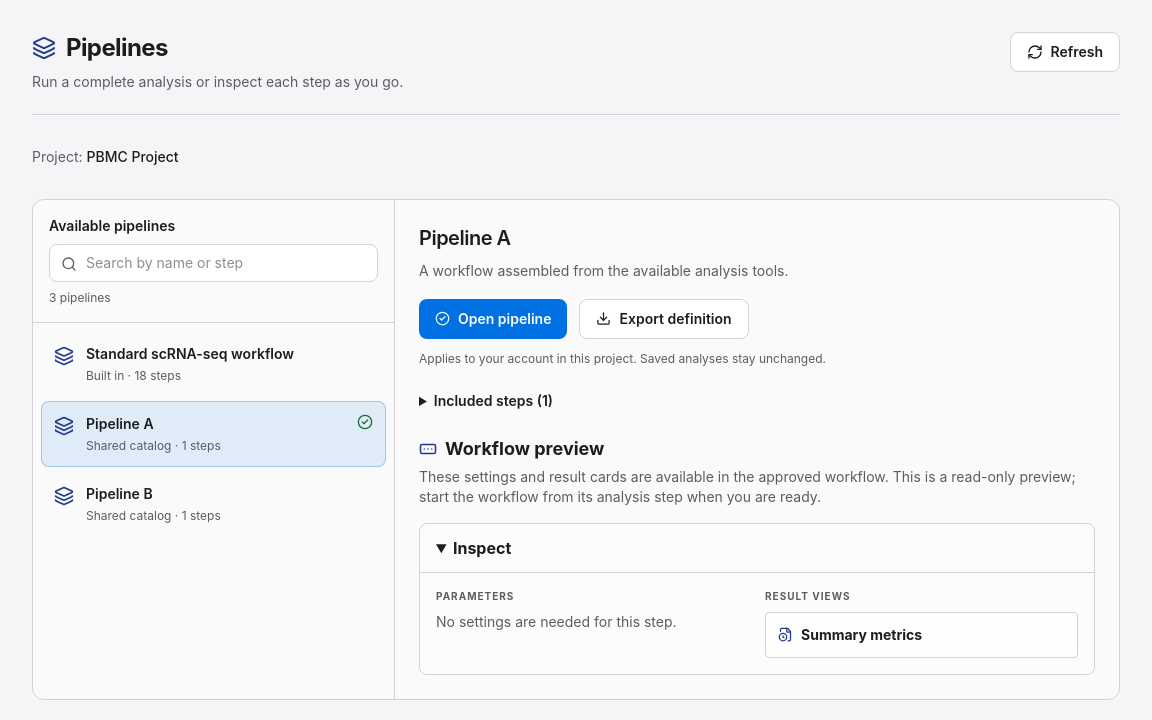
it: PipelineManager › serializes refresh and selection so a refresh cannot capture and restore an older selection
Check: the button "Pipeline B Shared catalog · 1 steps" is enabled, box [41,471,386,537]
Click the button "Refresh": (1065, 52) [1010,32,1120,72]
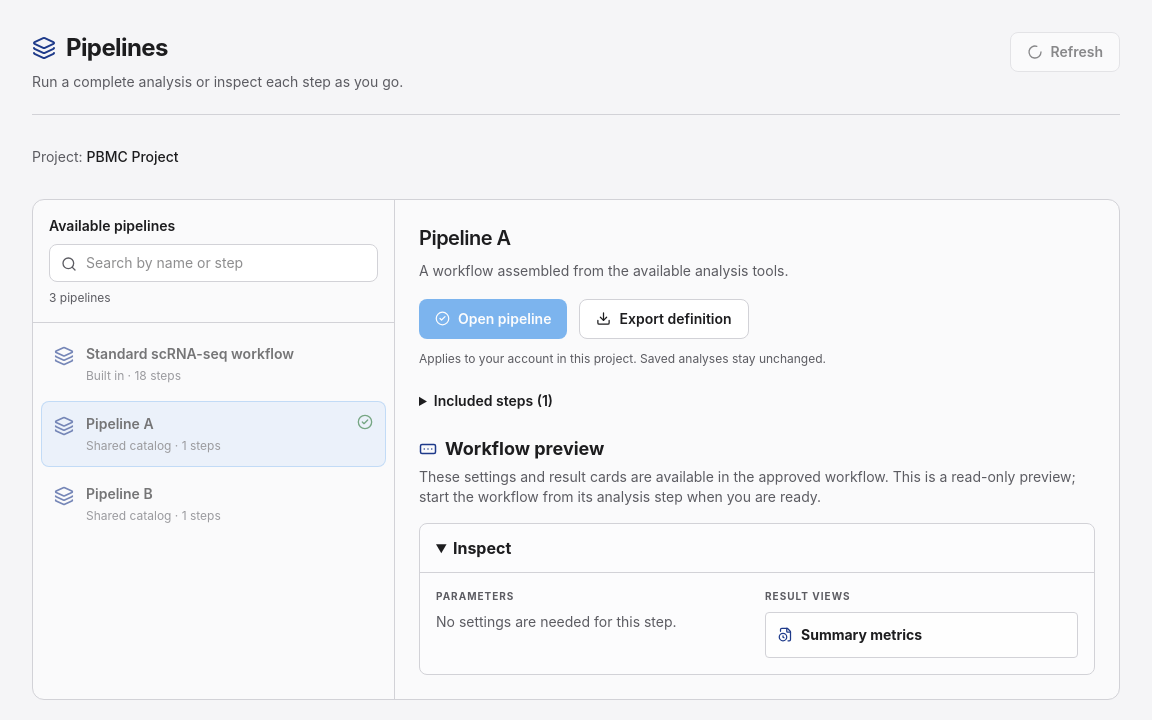
Check: the button "Refresh" is disabled, box [1010,32,1120,72]
Check: the button "Pipeline B Shared catalog · 1 steps" is disabled
Click the button "Pipeline B Shared catalog · 1 steps": (119, 494) [41,471,386,537]
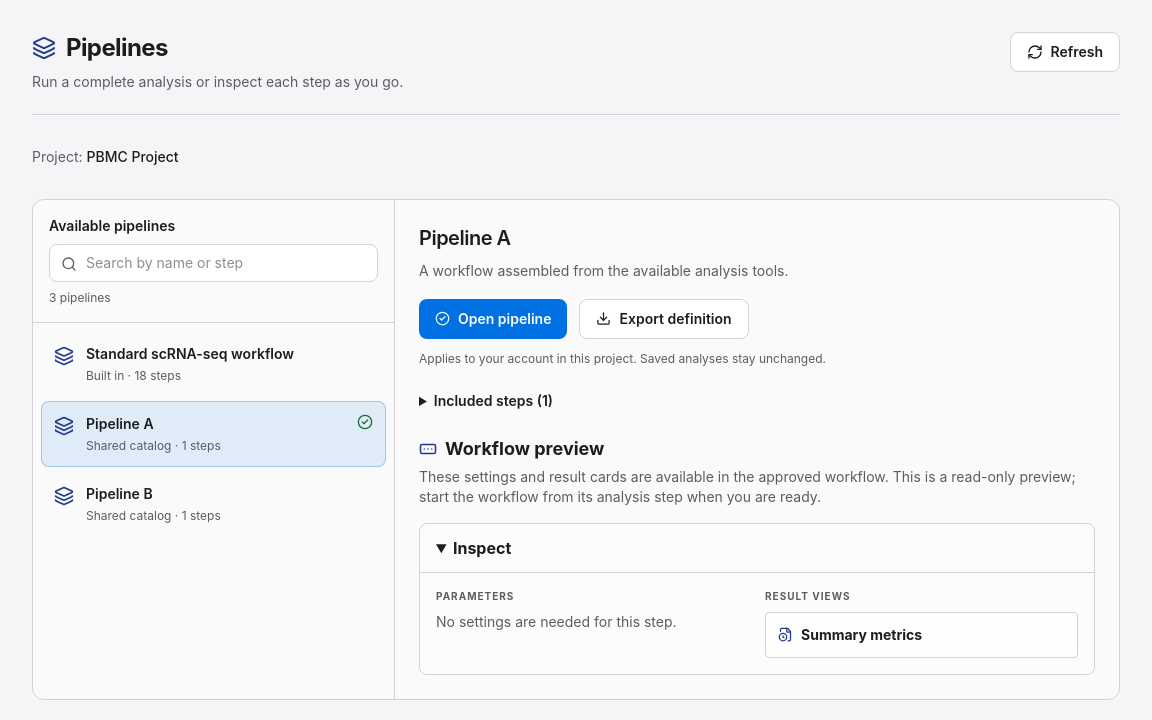
Check: the button "Pipeline B Shared catalog · 1 steps" is enabled, box [41,471,386,537]
